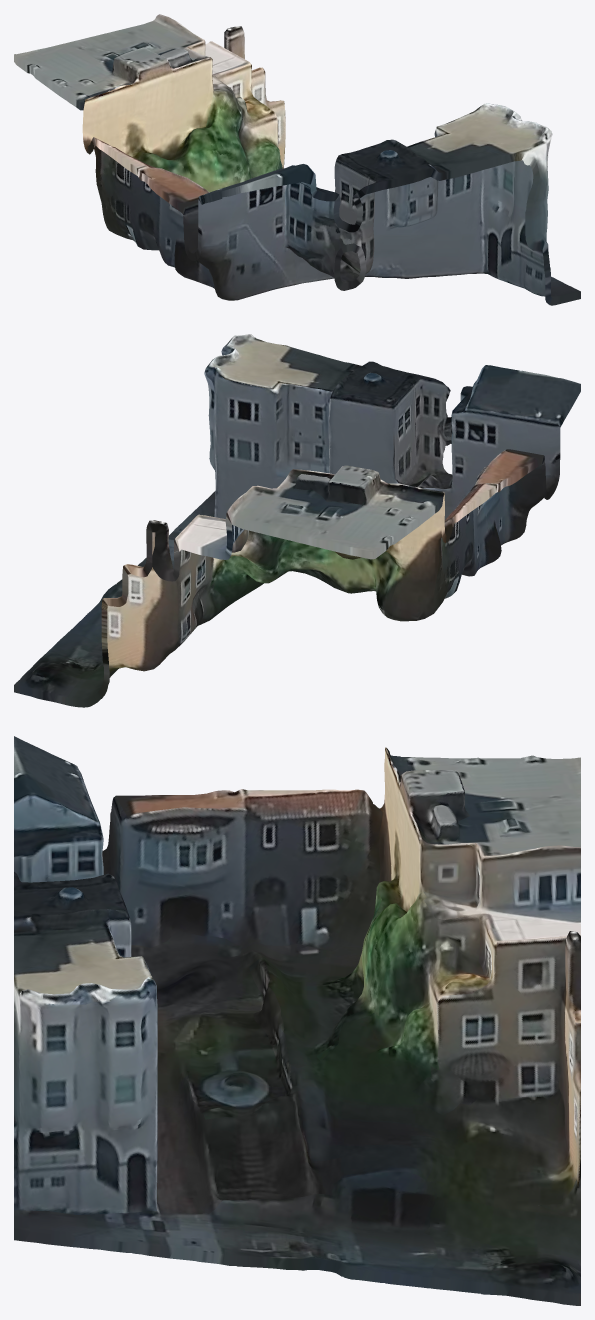
File: z20-167745-405192-h0-yup-uvflip-v3-world.glb
The picture shows the model from 3 angles, top to bottom: view 1: azimuth 30°, elevation 25°; view 2: azimuth 150°, elevation 25°; view 3: azimuth 270°, elevation 25°; orthographic projection. The views are drawn at different scales.
Bounding box in the file's own units: 30.16 × 19.96 × 30.32.
Materials: 1 (1 with a texture image).
